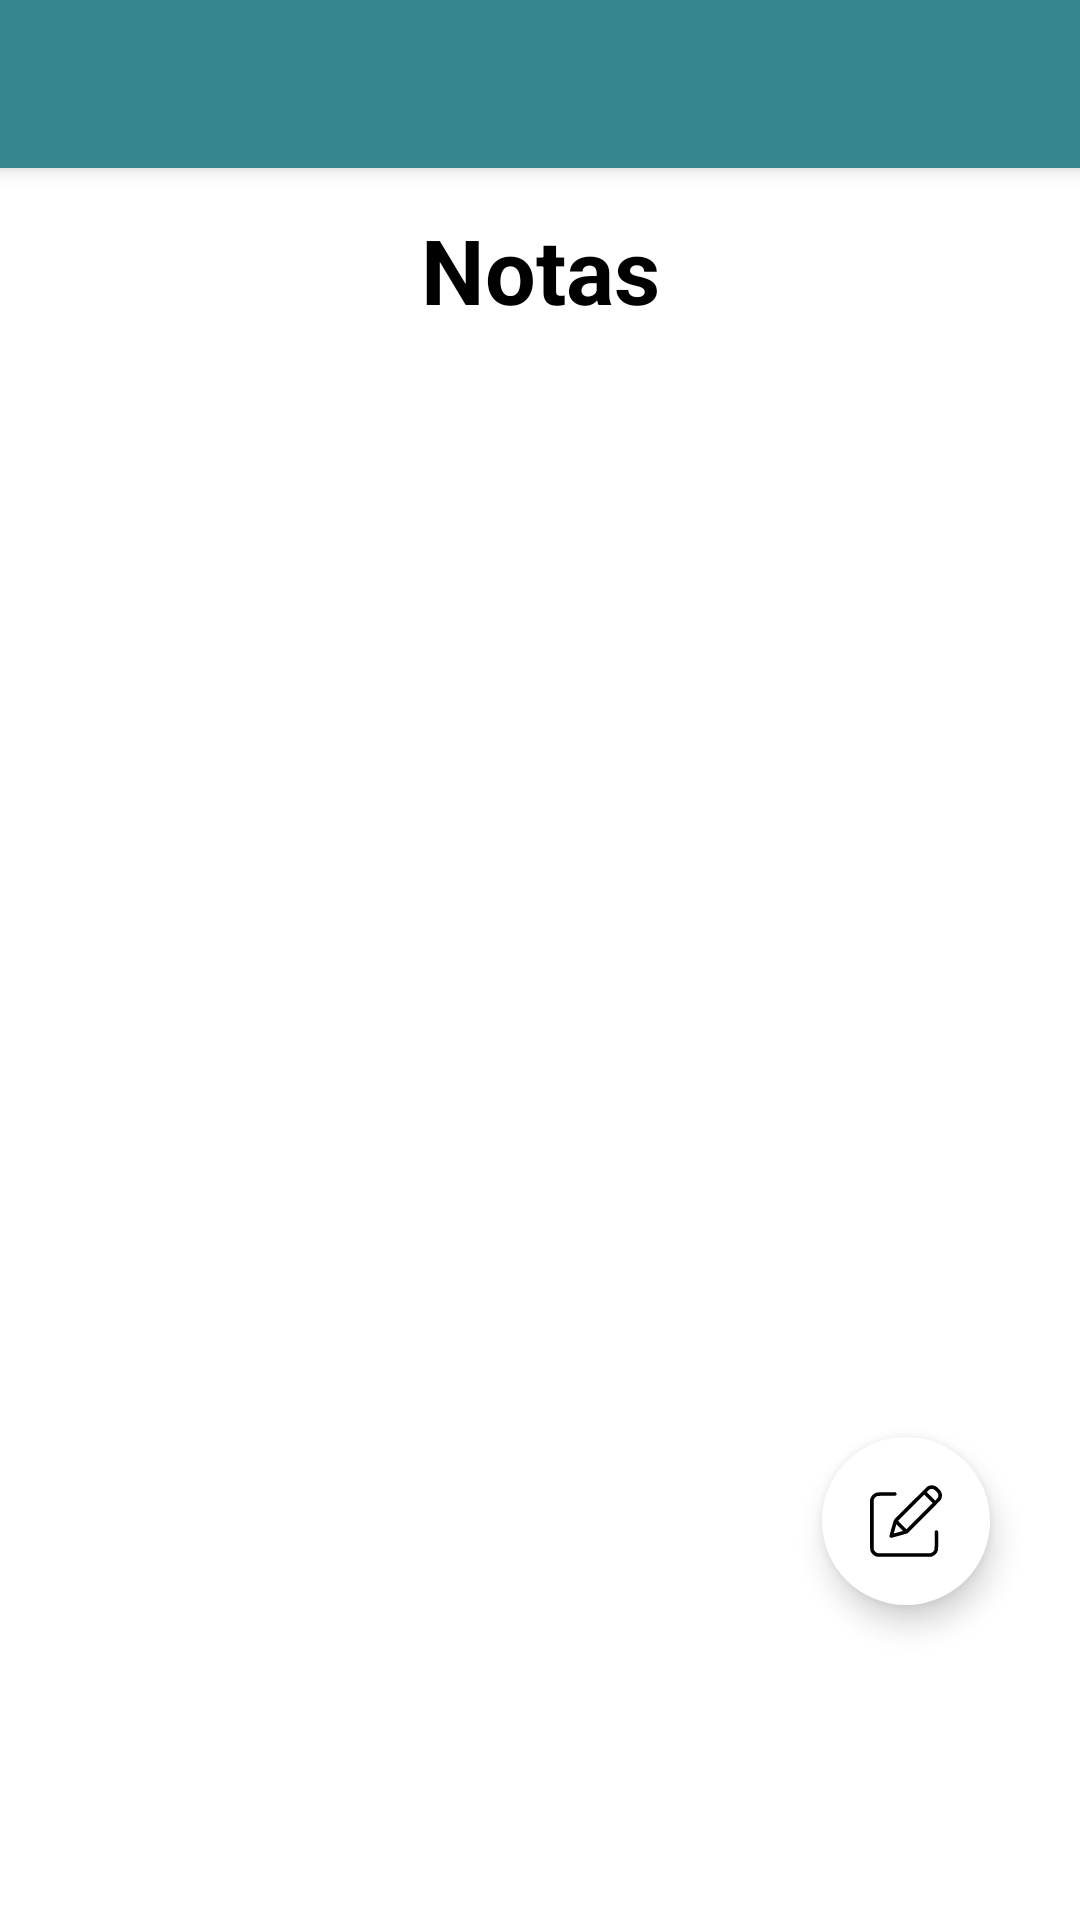

Icons on this 1080px x 1920px Android screen, each with its box as (x1, y1, x2, y2):
edit: (827, 1485, 942, 1558)
